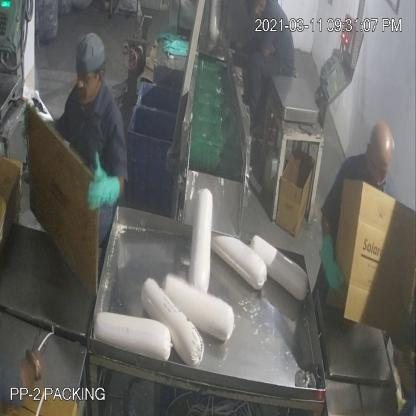glove: (82, 152, 123, 216), (318, 226, 346, 300)
